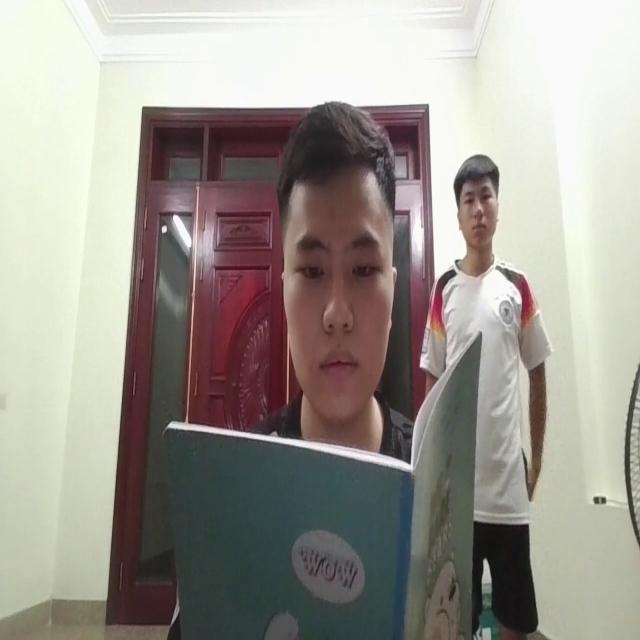book: (163, 336, 479, 634)
extra_person: (436, 158, 533, 496)
student: (280, 92, 398, 428)
